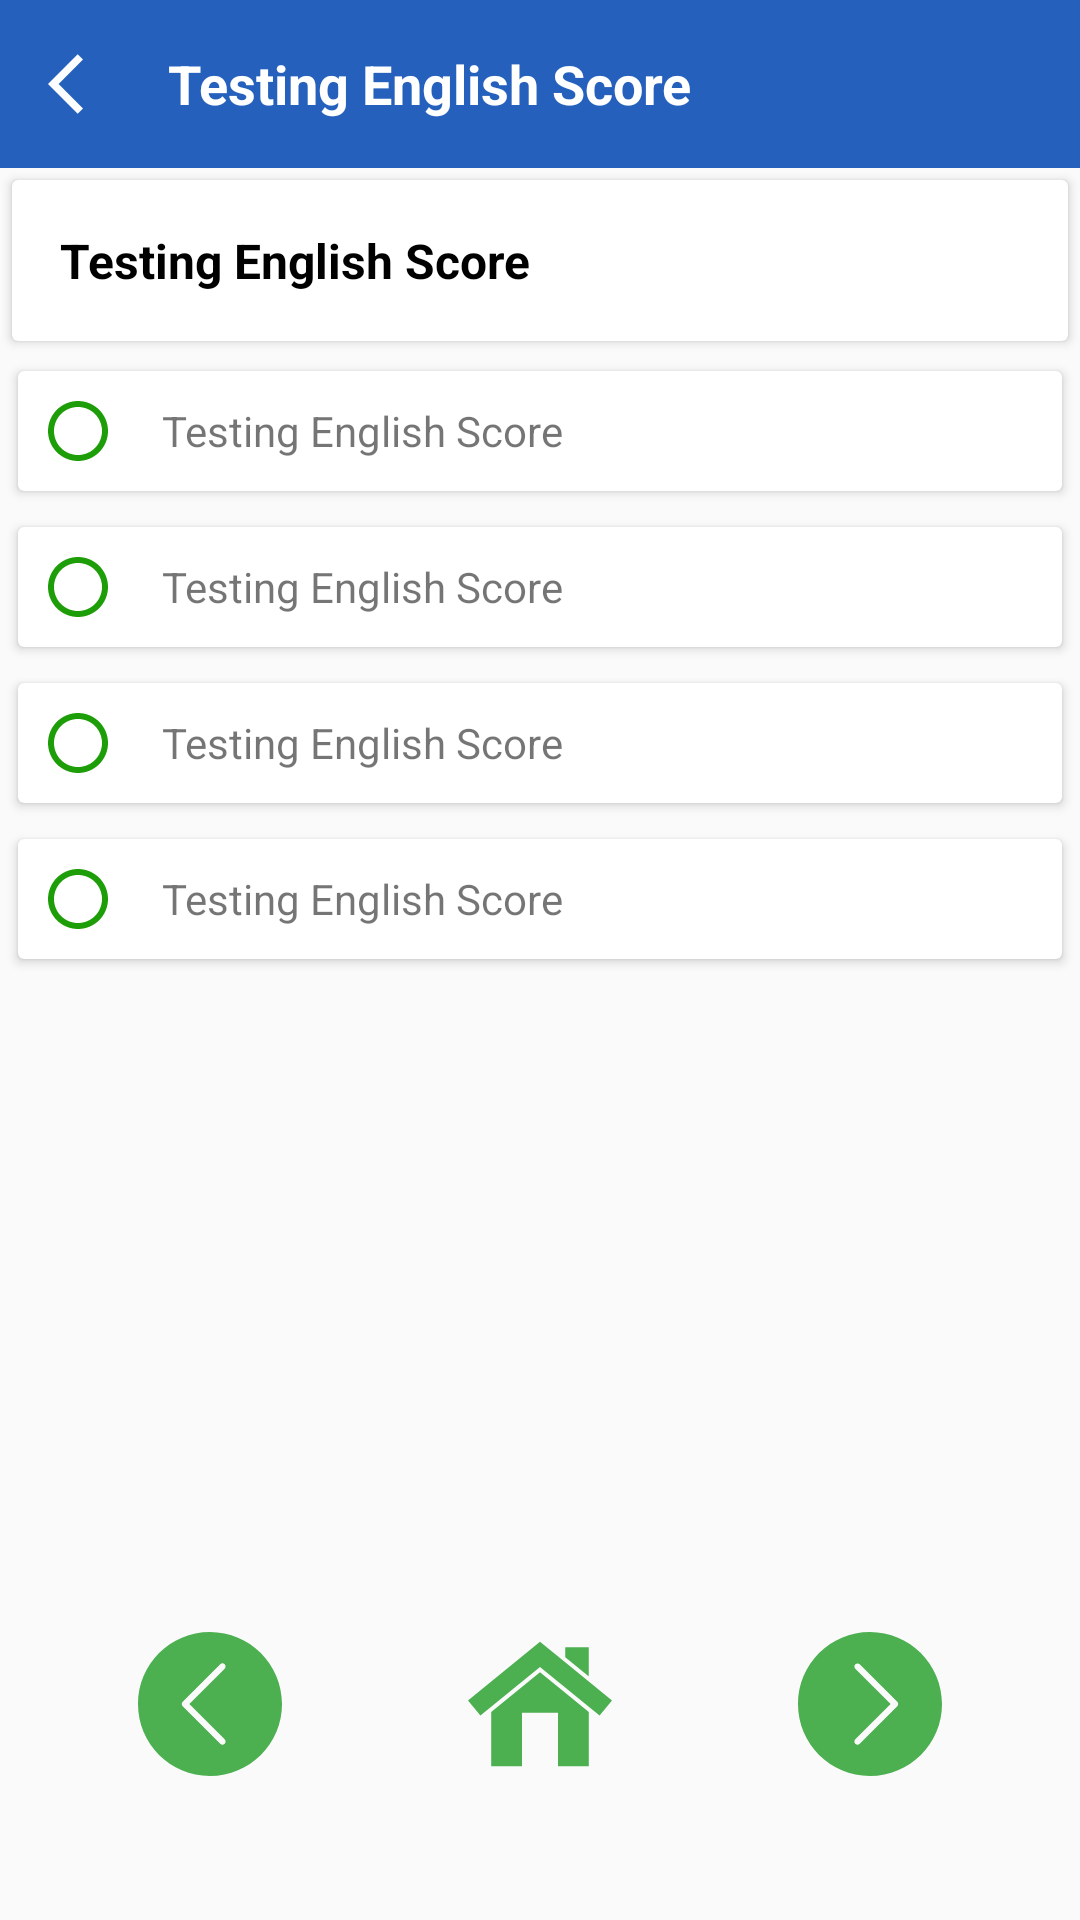

Where to tap for icons on this 1080px×1920px app screen, as point (x, y):
arrow back: point (65, 84)
home: point (540, 1704)
left arrow: point (210, 1704)
radio unchecked: point (78, 431), point (78, 587), point (78, 743), point (78, 899)
right arrow: point (870, 1704)
